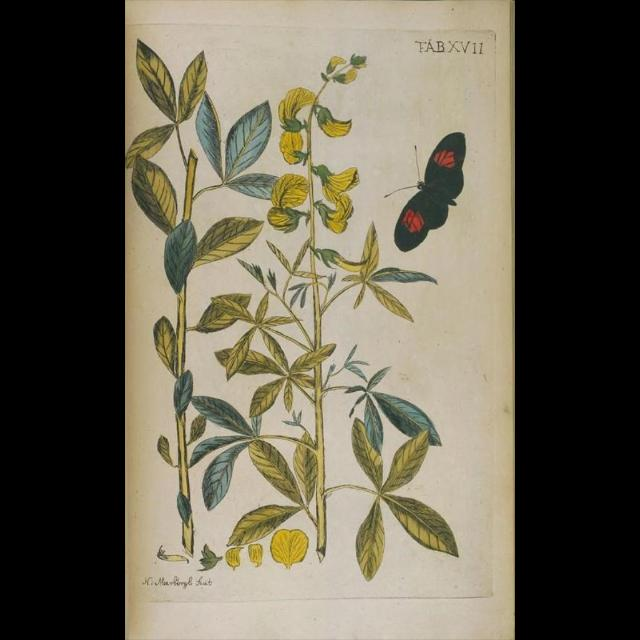Flower: (278, 88, 320, 132), (314, 193, 354, 233), (318, 165, 360, 202), (316, 104, 354, 138), (280, 128, 306, 166), (267, 208, 301, 232), (334, 68, 360, 86), (328, 57, 348, 77)
